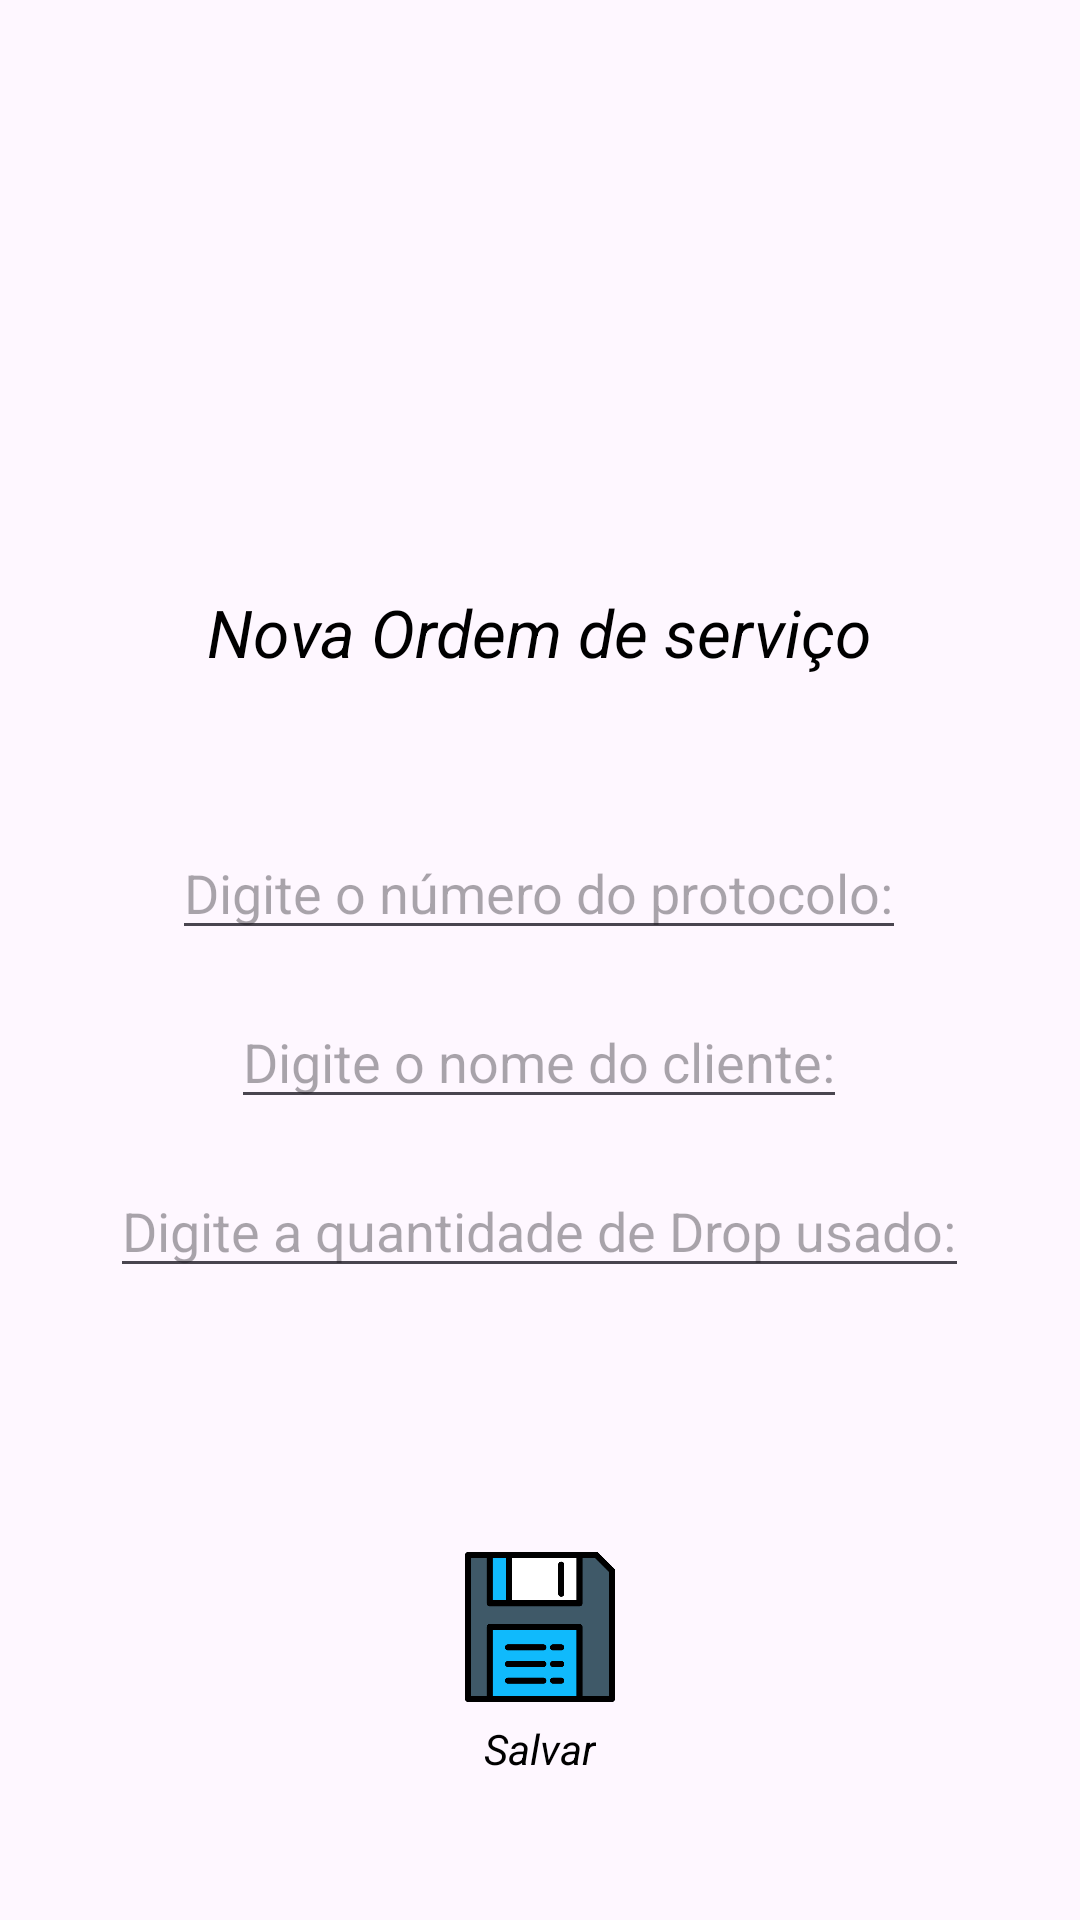

Named icons in this screenshot (1080×1920) and their bounding boxes, (x1,y1,x2,y2):
disquete: (465,1552,615,1702)
